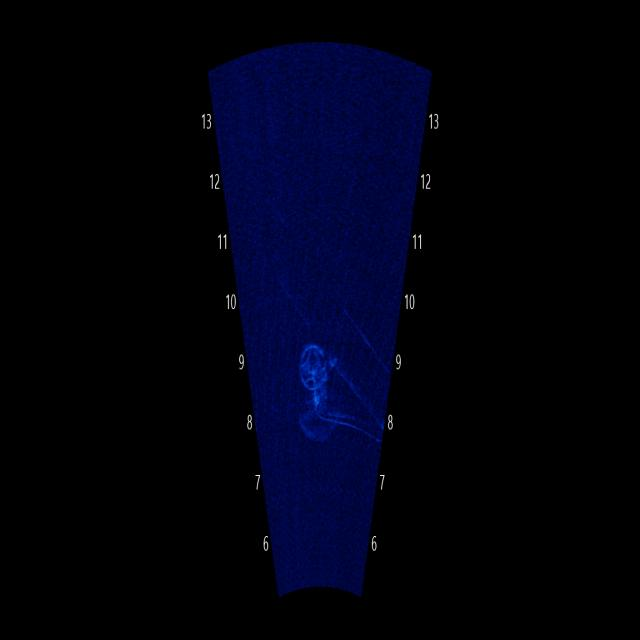circle: (283, 315, 352, 401)
